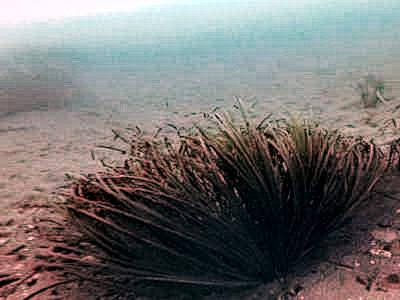urchin: (259, 255, 286, 283)
